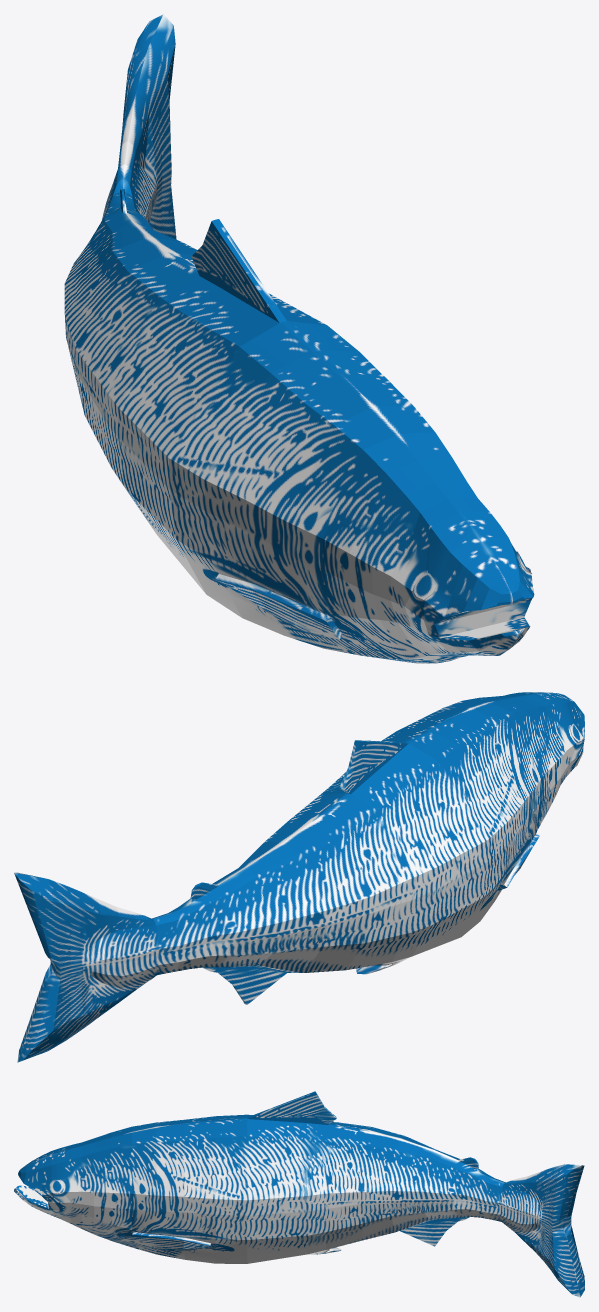
File: Salmon.fbx
3 views of the same model, one above another, from view 1: azimuth 30°, elevation 25°; view 2: azimuth 150°, elevation 25°; view 3: azimuth 270°, elevation 25° (orthographic). The views are drawn at different scales.
Visible parts, largest first — view 1: polySurface1; view 2: polySurface1; view 3: polySurface1.
Part boxes in pixels (x1=…): polySurface1: x1=64, y1=14, x2=534, y2=663; polySurface1: x1=14, y1=692, x2=584, y2=1062; polySurface1: x1=14, y1=1091, x2=584, y2=1297.
Bounding box in the file's own units: 2.98 × 2.77 × 8.87.
